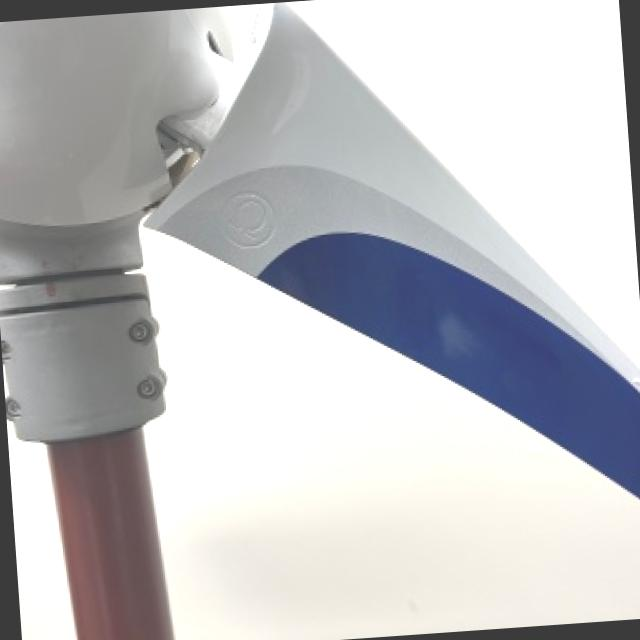healthy: (9, 423, 76, 640)
